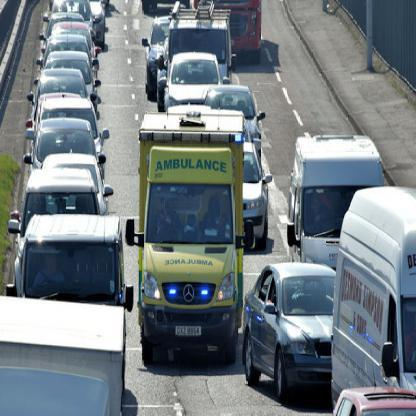Ambulance - v1 Ambulance last generate: (133, 113, 243, 362)
